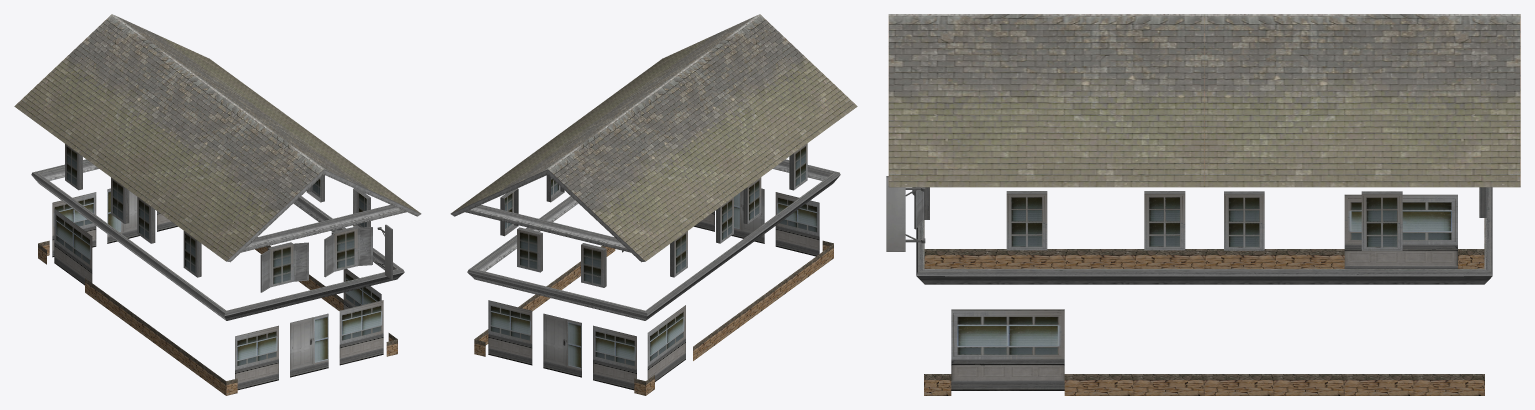
The model's file is rural_woodenbuilding_5_rural_housetrim_1_0_lev2.glb.
3 views of the same model, side by side, from view 1: azimuth 30°, elevation 25°; view 2: azimuth 150°, elevation 25°; view 3: azimuth 270°, elevation 25° (orthographic). The views are drawn at different scales.
Visible parts, largest first — view 1: rural_woodenbuilding_5_rural_housetrim_1_0_lev2; view 2: rural_woodenbuilding_5_rural_housetrim_1_0_lev2; view 3: rural_woodenbuilding_5_rural_housetrim_1_0_lev2.
Part boxes in pixels (box(x1,y1,x2,y2)): rural_woodenbuilding_5_rural_housetrim_1_0_lev2: box(14, 14, 421, 395); rural_woodenbuilding_5_rural_housetrim_1_0_lev2: box(450, 14, 857, 395); rural_woodenbuilding_5_rural_housetrim_1_0_lev2: box(886, 14, 1520, 395).
Bounding box in the file's own units: 6.79 × 7.12 × 12.79.
Materials: 1 (1 with a texture image).
